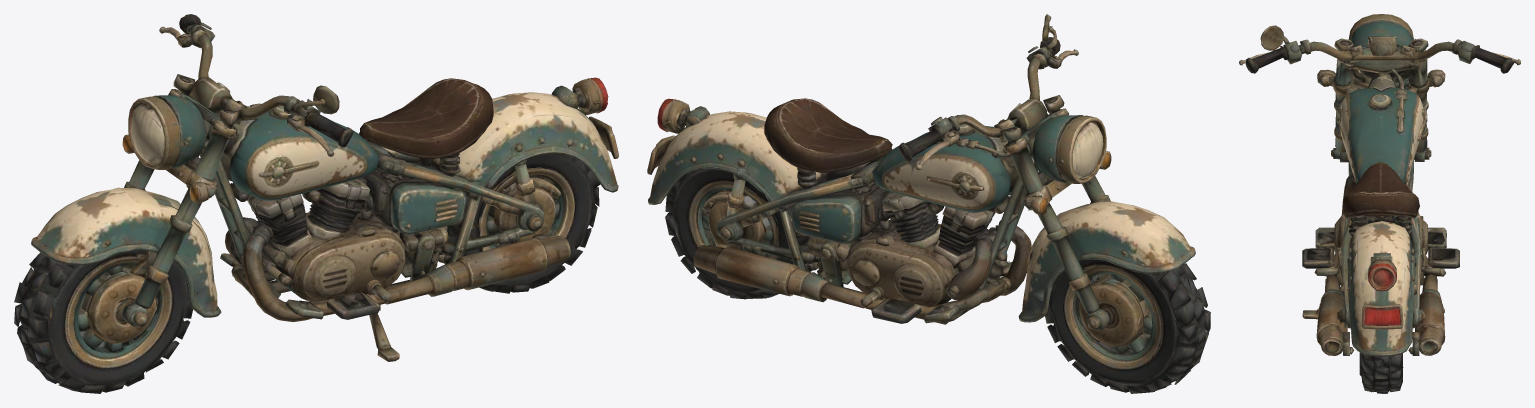
The model's file is vehicle_moto.glb.
The picture shows the model from 3 angles, left to right: view 1: azimuth 30°, elevation 25°; view 2: azimuth 150°, elevation 25°; view 3: azimuth 270°, elevation 25°; orthographic projection. The views are drawn at different scales.
Size of the model in its own units: 0.9556 by 0.4829 by 0.4815.
1 material, 1 textured.
